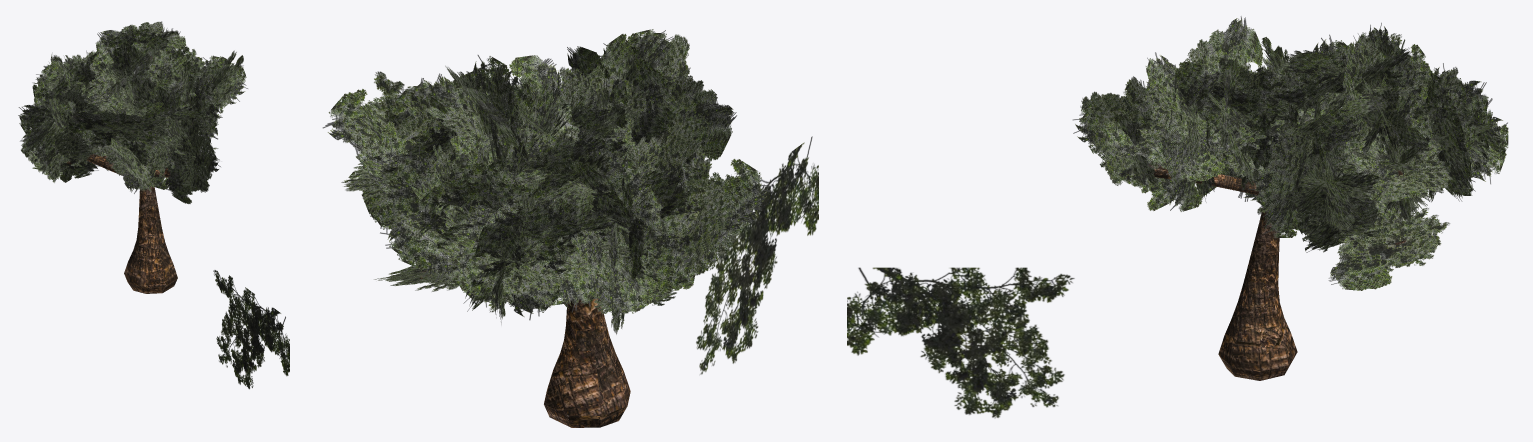
File: free_tree.glb
3 renders of one model, left to right at view 1: azimuth 30°, elevation 25°; view 2: azimuth 150°, elevation 25°; view 3: azimuth 270°, elevation 25°, orthographic. The views are drawn at different scales.
Parts seen in each view (by area): view 1: image-removebg-preview (6)_3001, Plane_3000, image-removebg-preview (6)_2376, image-removebg-preview (6)_2407, image-removebg-preview (6)_168, image-removebg-preview (6)_2285, image-removebg-preview (6)_69, image-removebg-preview (6)_1355, image-removebg-preview (6)_1499, image-removebg-preview (6)_74, image-removebg-preview (6)_847, image-removebg-preview (6)_2130 (+4 smaller); view 2: image-removebg-preview (6)_3001, Plane_3000, image-removebg-preview (6)_2454, image-removebg-preview (6)_2351, image-removebg-preview (6)_2031, image-removebg-preview (6)_2618, image-removebg-preview (6)_2026, image-removebg-preview (6)_2603, image-removebg-preview (6)_2910, image-removebg-preview (6)_2254, image-removebg-preview (6)_2440, image-removebg-preview (6)_2369 (+50 smaller); view 3: image-removebg-preview (6)_3001, Plane_3000, image-removebg-preview (6)_1760, image-removebg-preview (6)_57, image-removebg-preview (6)_176, image-removebg-preview (6)_1754, image-removebg-preview (6)_1748, image-removebg-preview (6)_1480, image-removebg-preview (6)_2369, image-removebg-preview (6)_1463, image-removebg-preview (6)_1566, image-removebg-preview (6)_1481 (+2 smaller).
Part boxes in pixels (x1=…): image-removebg-preview (6)_3001: x1=213, y1=270, x2=289, y2=389; Plane_3000: x1=66, y1=57, x2=195, y2=293; image-removebg-preview (6)_2376: x1=70, y1=116, x2=136, y2=145; image-removebg-preview (6)_2407: x1=58, y1=143, x2=96, y2=175; image-removebg-preview (6)_168: x1=168, y1=150, x2=205, y2=203; image-removebg-preview (6)_2285: x1=103, y1=134, x2=156, y2=193; image-removebg-preview (6)_69: x1=188, y1=122, x2=208, y2=171; image-removebg-preview (6)_1355: x1=164, y1=115, x2=180, y2=168; image-removebg-preview (6)_1499: x1=188, y1=79, x2=206, y2=138; image-removebg-preview (6)_74: x1=93, y1=42, x2=161, y2=75; image-removebg-preview (6)_847: x1=100, y1=65, x2=151, y2=109; image-removebg-preview (6)_2130: x1=107, y1=30, x2=167, y2=59; image-removebg-preview (6)_3001: x1=696, y1=136, x2=818, y2=374; Plane_3000: x1=395, y1=128, x2=707, y2=427; image-removebg-preview (6)_2454: x1=661, y1=159, x2=770, y2=269; image-removebg-preview (6)_2351: x1=650, y1=99, x2=697, y2=171; image-removebg-preview (6)_2031: x1=386, y1=157, x2=439, y2=269; image-removebg-preview (6)_2618: x1=645, y1=219, x2=686, y2=277; image-removebg-preview (6)_2026: x1=385, y1=173, x2=478, y2=227; image-removebg-preview (6)_2603: x1=573, y1=247, x2=653, y2=316; image-removebg-preview (6)_2910: x1=450, y1=195, x2=521, y2=296; image-removebg-preview (6)_2254: x1=527, y1=139, x2=614, y2=181; image-removebg-preview (6)_2440: x1=661, y1=169, x2=731, y2=273; image-removebg-preview (6)_2369: x1=673, y1=76, x2=723, y2=147; image-removebg-preview (6)_3001: x1=847, y1=267, x2=1074, y2=418; Plane_3000: x1=1142, y1=95, x2=1406, y2=380; image-removebg-preview (6)_1760: x1=1382, y1=216, x2=1450, y2=267; image-removebg-preview (6)_57: x1=1084, y1=85, x2=1155, y2=164; image-removebg-preview (6)_176: x1=1105, y1=150, x2=1173, y2=210; image-removebg-preview (6)_1754: x1=1371, y1=213, x2=1429, y2=282; image-removebg-preview (6)_1748: x1=1330, y1=230, x2=1376, y2=284; image-removebg-preview (6)_1480: x1=1274, y1=153, x2=1305, y2=229; image-removebg-preview (6)_2369: x1=1190, y1=24, x2=1254, y2=65; image-removebg-preview (6)_1463: x1=1107, y1=124, x2=1162, y2=161; image-removebg-preview (6)_1566: x1=1276, y1=108, x2=1360, y2=164; image-removebg-preview (6)_1481: x1=1265, y1=149, x2=1305, y2=231.
Bounding box in the file's own units: 13.15 × 14.45 × 21.29.
2 materials, 2 textured.
